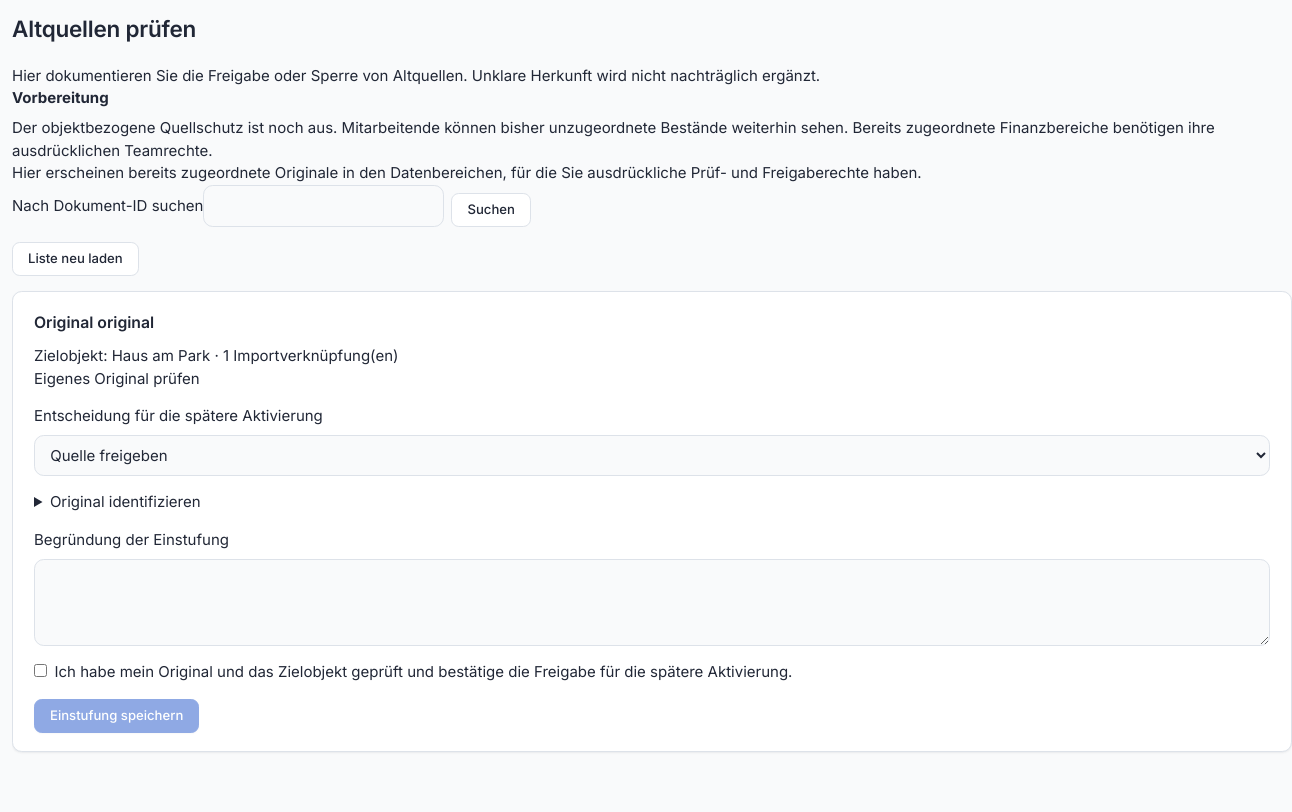
Test: requires renewed confirmation after changing the decision
This screenshot has width=1292, height=812.
Check: the checkbox is shown, box [34,664,47,677]
Type "Original und Ziel geprüft" into the text box labelled "Begründung der Einstufung" at (652, 603), box [34,559,1270,646]
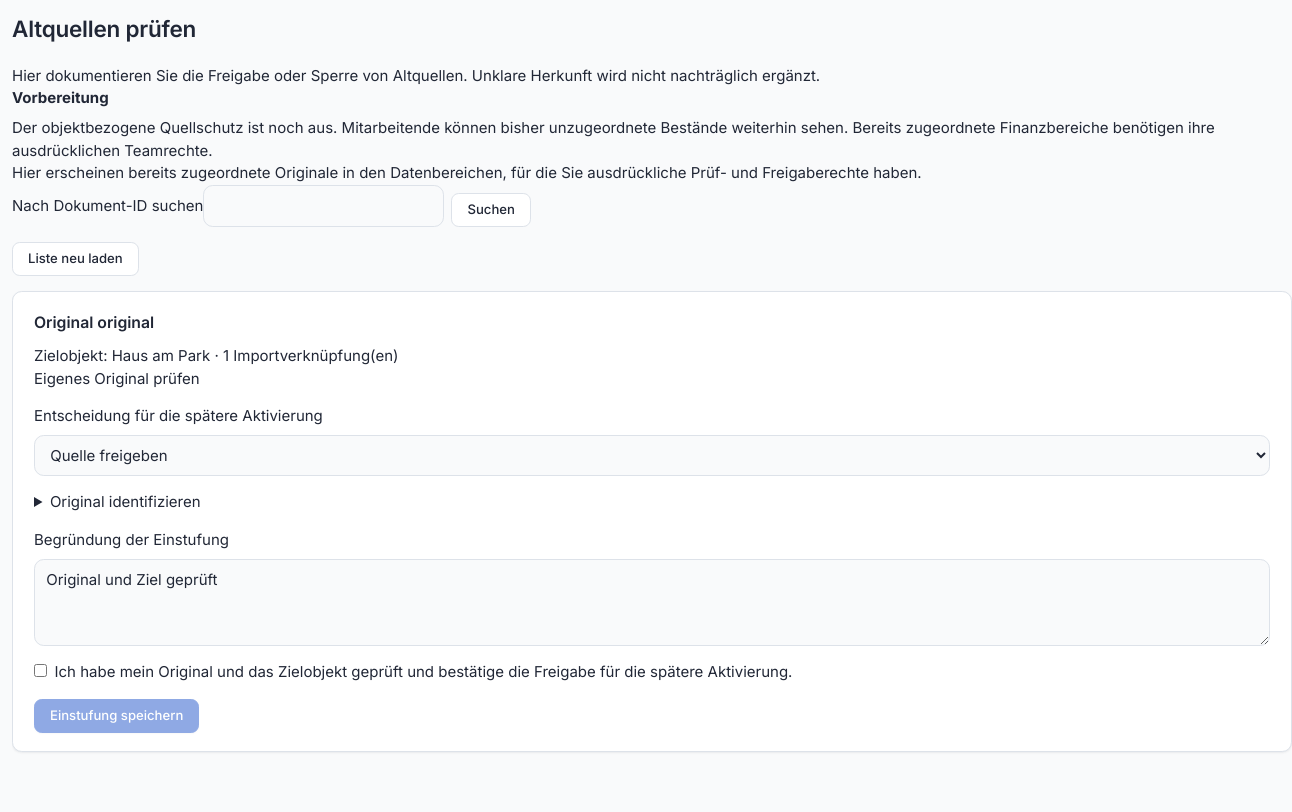
Click the checkbox at (40, 671), box [34,664,47,677]
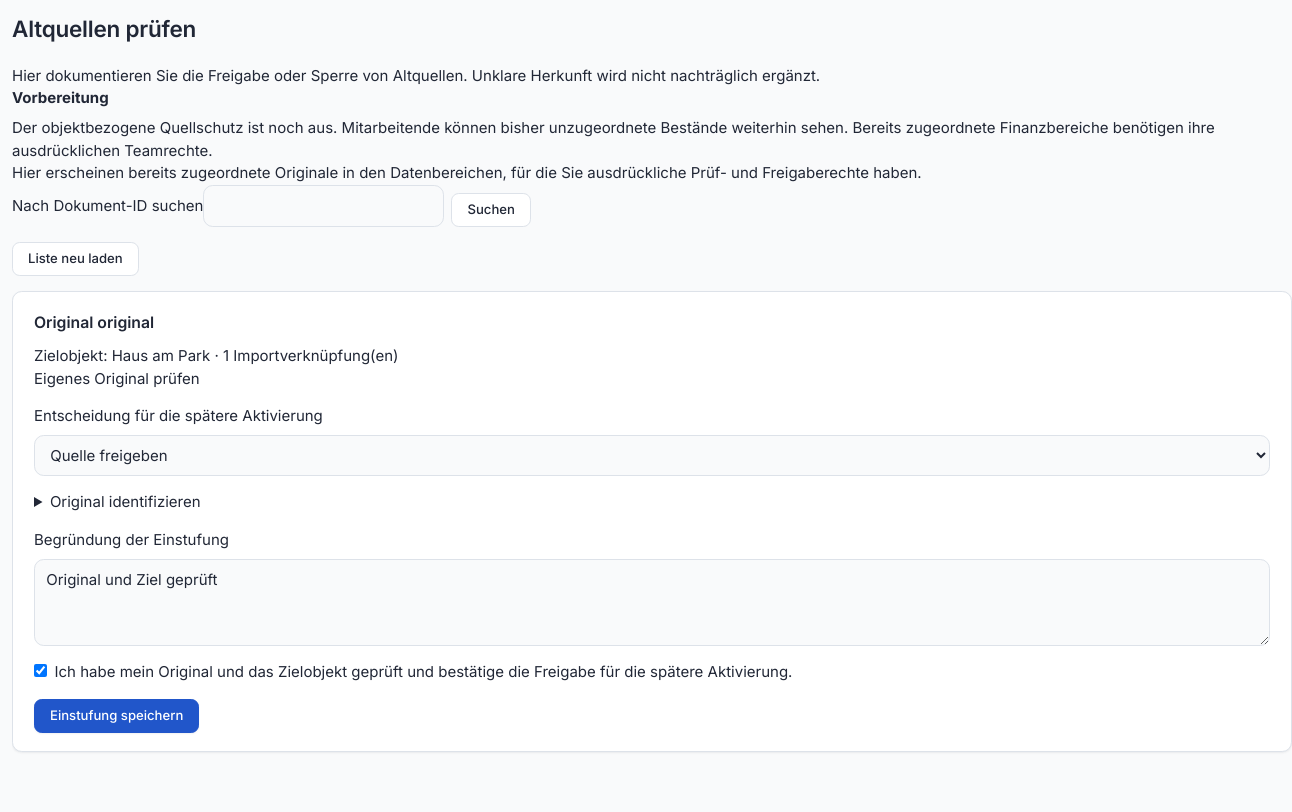
Check: the button "Einstufung speichern" is enabled, box [34,699,199,733]
Select "Quelle sperren" in the dropdown at (652, 456), box [34,435,1270,476]
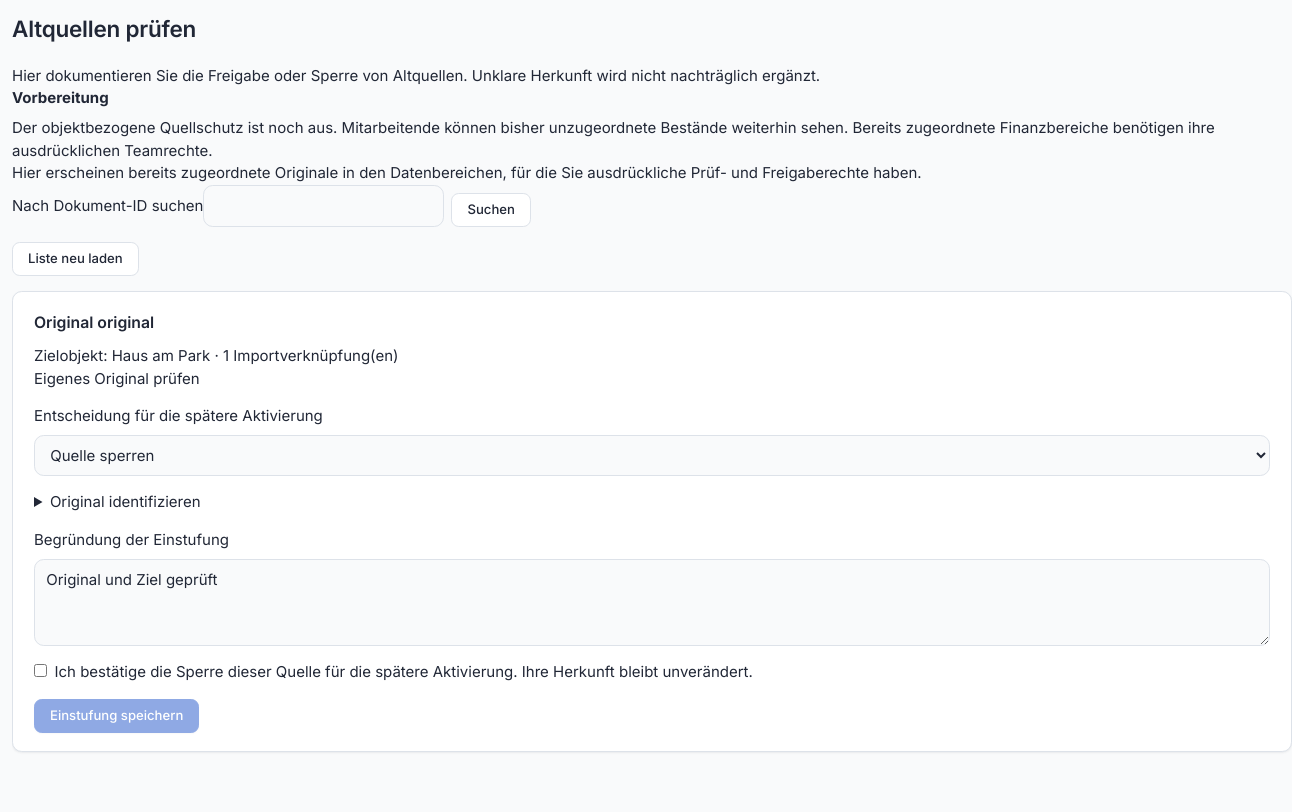
Check: the checkbox is not checked, box [34,664,47,677]
Check: the button "Einstufung speichern" is disabled, box [34,699,199,733]
